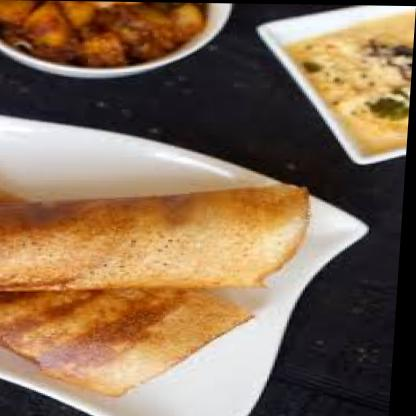dosa: (0, 183, 265, 398), (0, 182, 315, 294)
